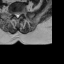CCS_stenosis: (16, 11, 18, 19)
LFS_normal: (20, 10, 22, 16)
LLS_normal: (18, 10, 20, 18)
RFS_stenosis: (12, 10, 14, 16)
RLS_normal: (14, 10, 16, 18)
